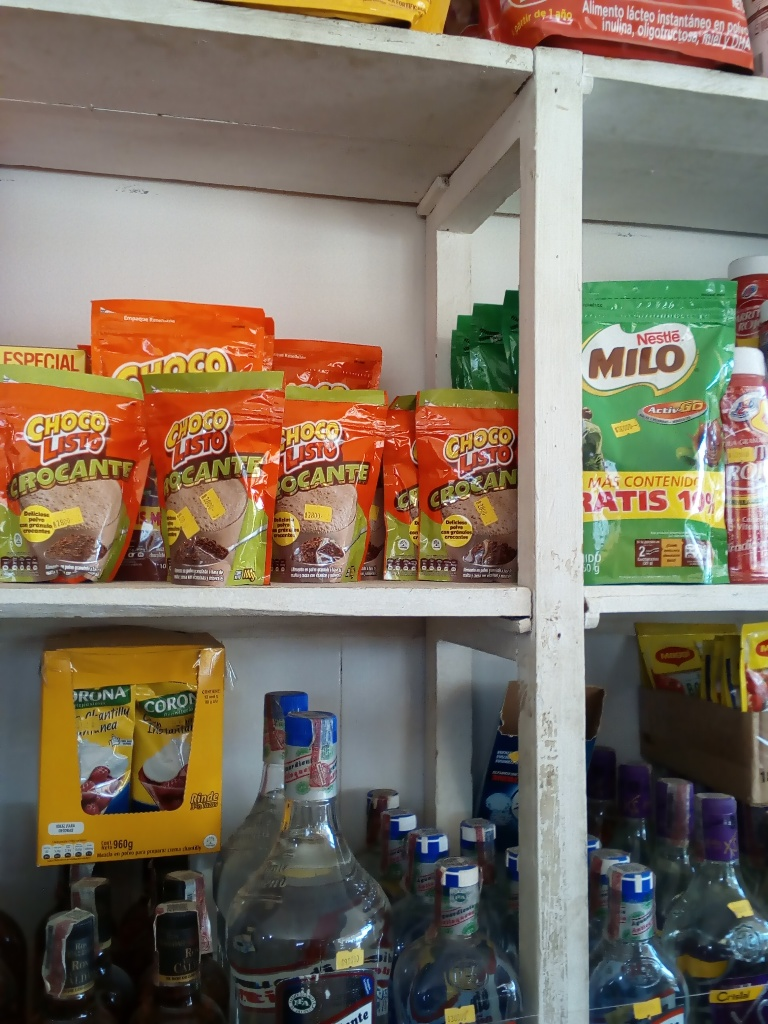COL0170102DYP10000: (414, 384, 517, 577)
COL0170203DYP50000: (574, 260, 743, 583)
